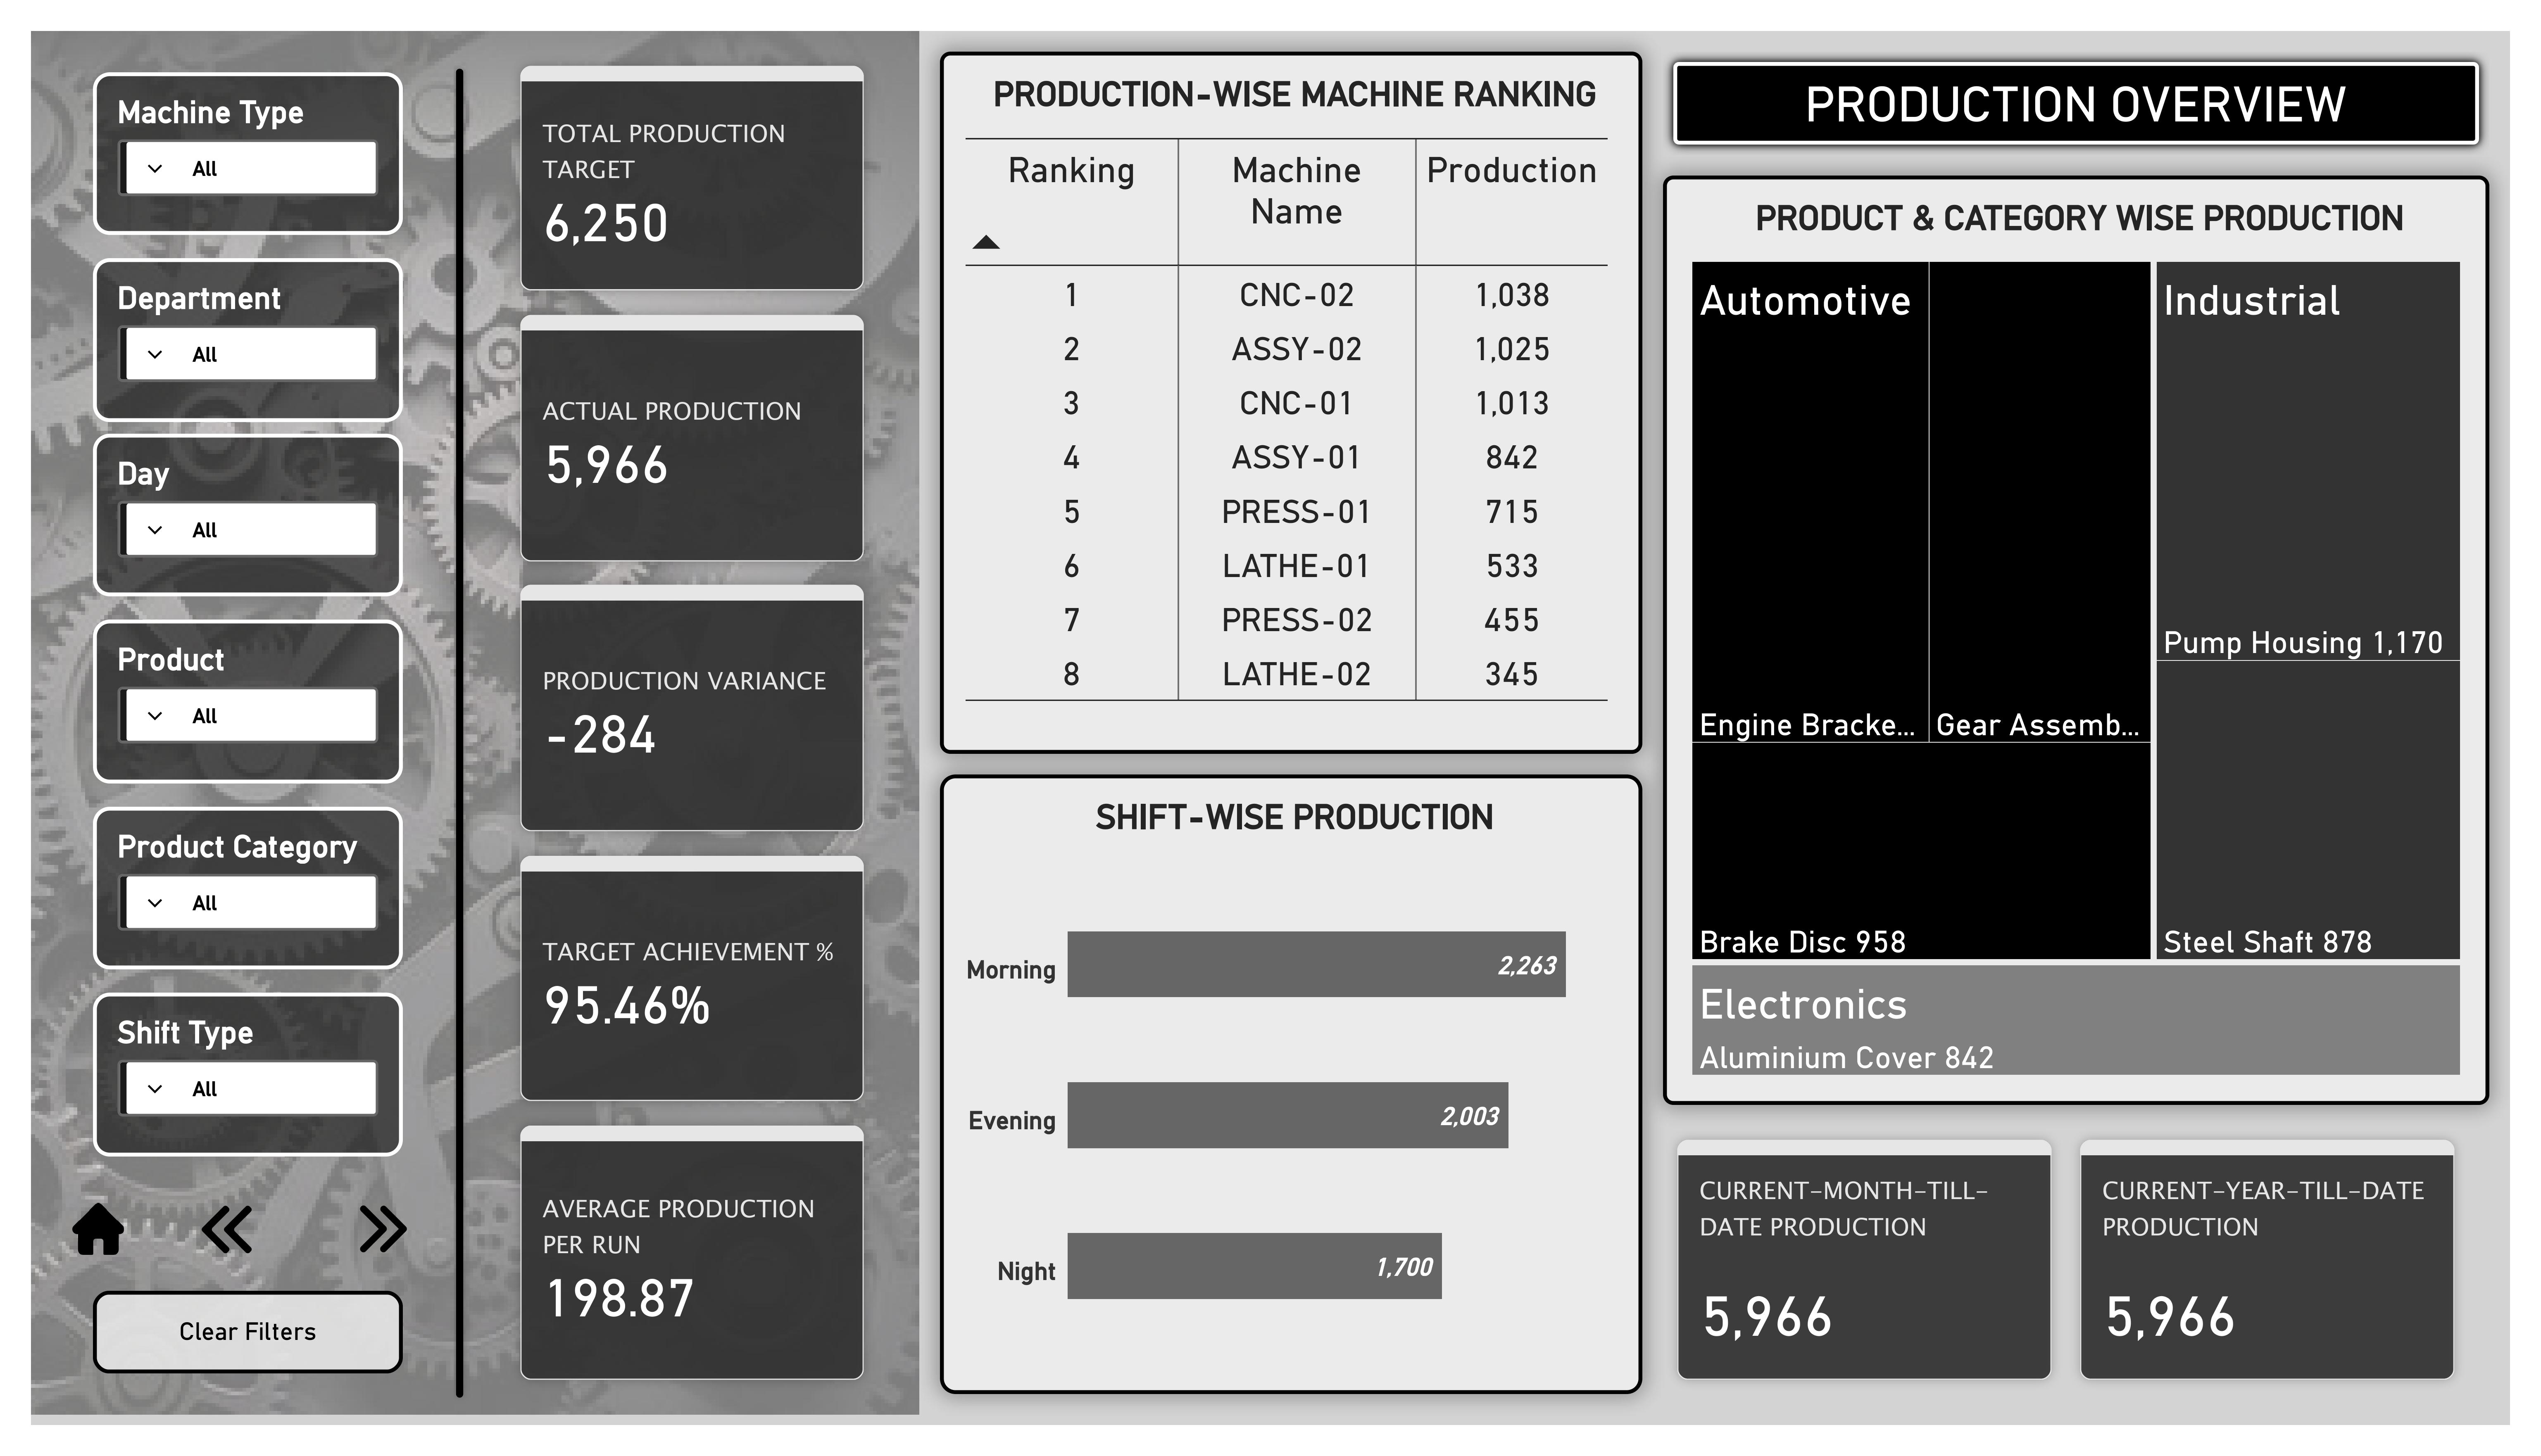

Layout of this report page (visuals, bound fields, positions):
{"tool":"powerbi","page":{"name":"Production Overview (Page 2)","canvas":[1920,1080],"ordinal":1},"visuals":[{"type":"image","box":[0,0,688,1072],"z":0},{"type":"cardVisual","fields":{"Data":["Dax (Level 1).TOTAL TARGET QUANTITY"]},"box":[368.4,16,287.6,196.2],"z":1000,"group":"g1"},{"type":"cardVisual","fields":{"Data":["1 Basic Production Measures.M.T.D. PRODUCTION","1 Basic Production Measures.Y.T.D. PRODUCTION"]},"box":[1264,848,624,208],"z":1000},{"type":"image","box":[32,896,40,64],"z":1000,"group":"g4"},{"type":"shape","box":[324,24,16,1040],"z":2000},{"type":"cardVisual","fields":{"Data":["Dax (Level 1).ACTUAL QUANTITY"]},"box":[368.4,209,287.6,212.5],"z":2000,"group":"g1"},{"type":"group","id":"g1","title":"Group 1","box":[368,16,288,1040],"z":3000},{"type":"image","box":[241.9,896,62.1,64],"z":3000,"group":"g6"},{"type":"group","id":"g2","title":"Group 2","box":[48,32,240,832],"z":4000},{"type":"cardVisual","fields":{"Data":["Dax (Level 1).AVERAGE PRODUCTION PER RUN"]},"box":[368,837,287.6,219],"z":4000,"group":"g1"},{"type":"image","box":[128,904,46.6,48],"z":4000,"group":"g6"},{"type":"group","id":"g3","title":"Group 3","box":[48,32,240,270.8],"z":5000,"group":"g2"},{"type":"group","id":"g4","title":"Group 2","box":[32,896,272,48],"z":5000},{"type":"group","id":"g5","title":"Group 3","box":[48,311.9,240,559.7],"z":6000,"group":"g2"},{"type":"cardVisual","fields":{"Data":["Dax (Level 1).AVG. QUANTITY"]},"box":[368.4,418.3,287.6,212.5],"z":6000,"group":"g1"},{"type":"actionButton","box":[48,976,240,64],"z":6000},{"type":"treemap","title":"PRODUCT & CATEGORY WISE PRODUCTION","fields":{"Details":["DimProduct.ProductName"],"Group":["DimProduct.ProductCategory"],"Values":["1 Basic Production Measures.ACTUAL PRODUCTION"]},"box":[1264,112,640,720],"z":7000},{"type":"listSlicer","fields":{"Values":["DimDepartment.DepartmentName"]},"box":[48,176.4,240,126.4],"z":7000,"group":"g3"},{"type":"clusteredBarChart","title":"SHIFT-WISE PRODUCTION","fields":{"Category":["DimShift.ShiftName"],"Y":["1 Basic Production Measures.ACTUAL PRODUCTION"]},"box":[704,576,544,480],"z":8000},{"type":"cardVisual","fields":{"Data":["Dax (Level 1).TARGET ACHIEVEMENT %"]},"box":[368.4,627.7,287.6,212.5],"z":8000,"group":"g1"},{"type":"tableEx","title":"PRODUCTION-WISE MACHINE RANKING","fields":{"Values":["1 Basic Production Measures.MACHINE RANKING","DimMachine.MachineName","1 Basic Production Measures.ACTUAL PRODUCTION"]},"box":[704,16,544,544],"z":9000},{"type":"shape","box":[1264,16,640,80],"z":10000},{"type":"listSlicer","fields":{"Values":["DimMachine.MachineName"]},"box":[48,32,240,126.4],"z":22000,"group":"g3"},{"type":"group","id":"g6","title":"Group 1","box":[128,896,176,64],"z":23001,"group":"g4"},{"type":"listSlicer","fields":{"Values":["DimProduct.ProductCategory"]},"box":[48,600.8,240,126.4],"z":23500,"group":"g5"},{"type":"listSlicer","fields":{"Values":["DimDate.Date.Variation.Date Hierarchy.Day"]},"box":[48,311.9,240,126.4],"z":24000,"group":"g5"},{"type":"listSlicer","fields":{"Values":["DimShift.ShiftName"]},"box":[48,745.2,240,126.4],"z":25000,"group":"g5"},{"type":"listSlicer","fields":{"Values":["DimProduct.ProductName"]},"box":[48,456.3,240,126.4],"z":25500,"group":"g5"}]}

Visuals, with their boxes on the page's 1920x1080 design canvas (x1, y1, x2, y2). These are canvas units, not pixel positions in the 2541x1456 screenshot, which may show the page scaled, cropped or inside an application window:
image: {"x1": 0, "y1": 0, "x2": 688, "y2": 1072}
cardVisual - Dax (Level 1).TOTAL TARGET QUANTITY: {"x1": 368, "y1": 16, "x2": 656, "y2": 212}
cardVisual - 1 Basic Production Measures.M.T.D. PRODUCTION x 1 Basic Production Measures.Y.T.D. PRODUCTION: {"x1": 1264, "y1": 848, "x2": 1888, "y2": 1056}
image: {"x1": 32, "y1": 896, "x2": 72, "y2": 960}
shape: {"x1": 324, "y1": 24, "x2": 340, "y2": 1064}
cardVisual - Dax (Level 1).ACTUAL QUANTITY: {"x1": 368, "y1": 209, "x2": 656, "y2": 422}
"Group 1" group: {"x1": 368, "y1": 16, "x2": 656, "y2": 1056}
image: {"x1": 242, "y1": 896, "x2": 304, "y2": 960}
"Group 2" group: {"x1": 48, "y1": 32, "x2": 288, "y2": 864}
cardVisual - Dax (Level 1).AVERAGE PRODUCTION PER RUN: {"x1": 368, "y1": 837, "x2": 656, "y2": 1056}
image: {"x1": 128, "y1": 904, "x2": 175, "y2": 952}
"Group 3" group: {"x1": 48, "y1": 32, "x2": 288, "y2": 303}
"Group 2" group: {"x1": 32, "y1": 896, "x2": 304, "y2": 944}
"Group 3" group: {"x1": 48, "y1": 312, "x2": 288, "y2": 872}
cardVisual - Dax (Level 1).AVG. QUANTITY: {"x1": 368, "y1": 418, "x2": 656, "y2": 631}
actionButton: {"x1": 48, "y1": 976, "x2": 288, "y2": 1040}
"PRODUCT & CATEGORY WISE PRODUCTION" treemap: {"x1": 1264, "y1": 112, "x2": 1904, "y2": 832}
listSlicer - DimDepartment.DepartmentName: {"x1": 48, "y1": 176, "x2": 288, "y2": 303}
"SHIFT-WISE PRODUCTION" clusteredBarChart: {"x1": 704, "y1": 576, "x2": 1248, "y2": 1056}
cardVisual - Dax (Level 1).TARGET ACHIEVEMENT %: {"x1": 368, "y1": 628, "x2": 656, "y2": 840}
"PRODUCTION-WISE MACHINE RANKING" tableEx: {"x1": 704, "y1": 16, "x2": 1248, "y2": 560}
shape: {"x1": 1264, "y1": 16, "x2": 1904, "y2": 96}
listSlicer - DimMachine.MachineName: {"x1": 48, "y1": 32, "x2": 288, "y2": 158}
"Group 1" group: {"x1": 128, "y1": 896, "x2": 304, "y2": 960}
listSlicer - DimProduct.ProductCategory: {"x1": 48, "y1": 601, "x2": 288, "y2": 727}
listSlicer - DimDate.Date.Variation.Date Hierarchy.Day: {"x1": 48, "y1": 312, "x2": 288, "y2": 438}
listSlicer - DimShift.ShiftName: {"x1": 48, "y1": 745, "x2": 288, "y2": 872}
listSlicer - DimProduct.ProductName: {"x1": 48, "y1": 456, "x2": 288, "y2": 583}
